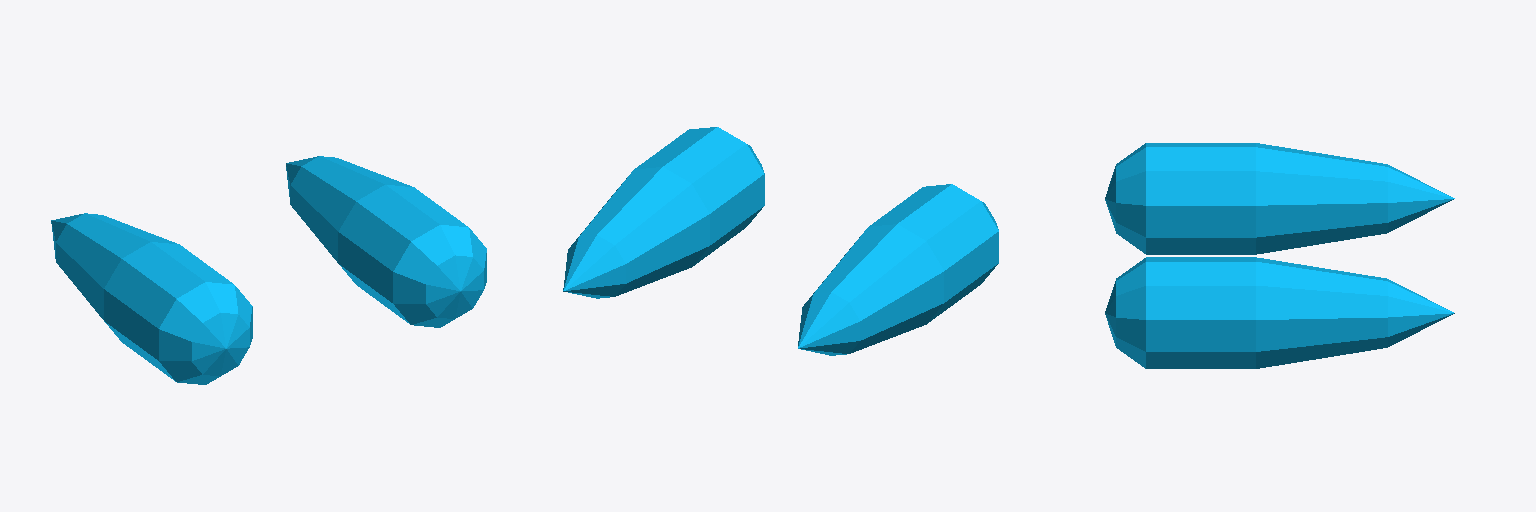
Rendered from bullet.obj.
3 views of the same model, side by side, from view 1: azimuth 30°, elevation 25°; view 2: azimuth 150°, elevation 25°; view 3: azimuth 270°, elevation 25° (orthographic).
Parts seen in each view (by area): view 1: bullet; view 2: bullet; view 3: bullet.
Part boxes in pixels (left/top/right/bottom): bullet: left=51, top=156, right=486, bottom=384; bullet: left=563, top=127, right=998, bottom=355; bullet: left=1105, top=143, right=1454, bottom=368.
Size of the model in its own units: 2.86 by 0.8607 by 2.64.